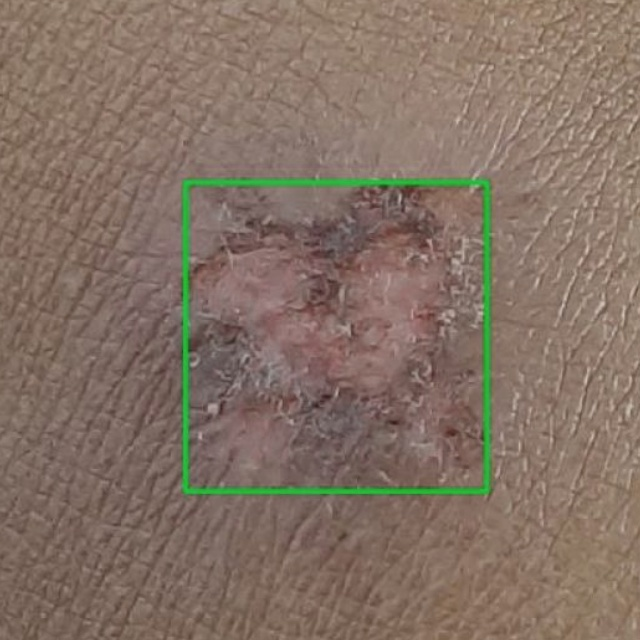Contact Dermatitis: (185, 182, 486, 491)
